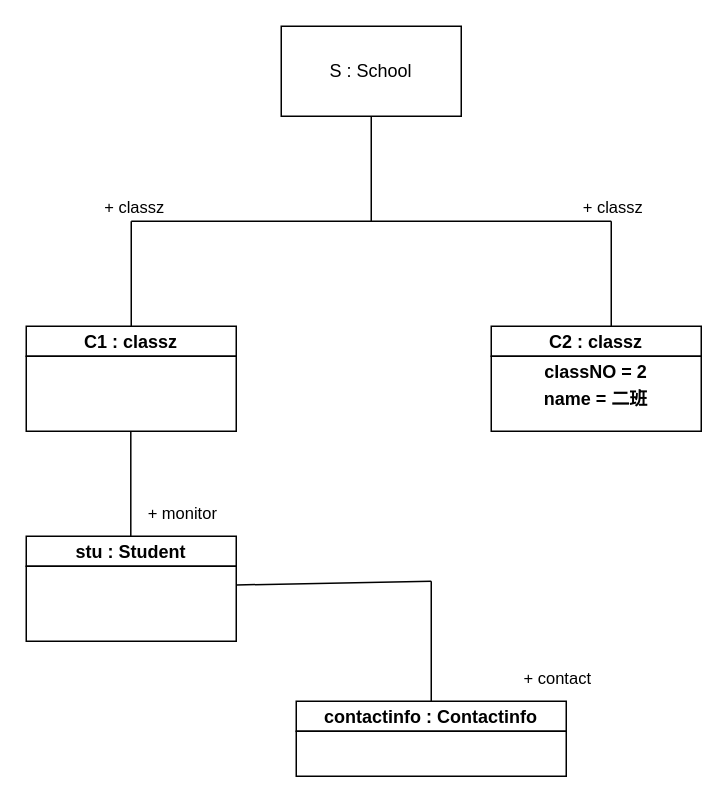
The diagram is 728 pixels wide and 803 high, and some of its shapes have lost their labels. Here are the shapes that lost their labels. From the top down, the centre of each, then its label:
At point (130, 393): "classNO = 1 name = 一班".
At point (130, 603): "name = 張三 stuid = 126666660".
At point (430, 753): "address = 清華大學".
